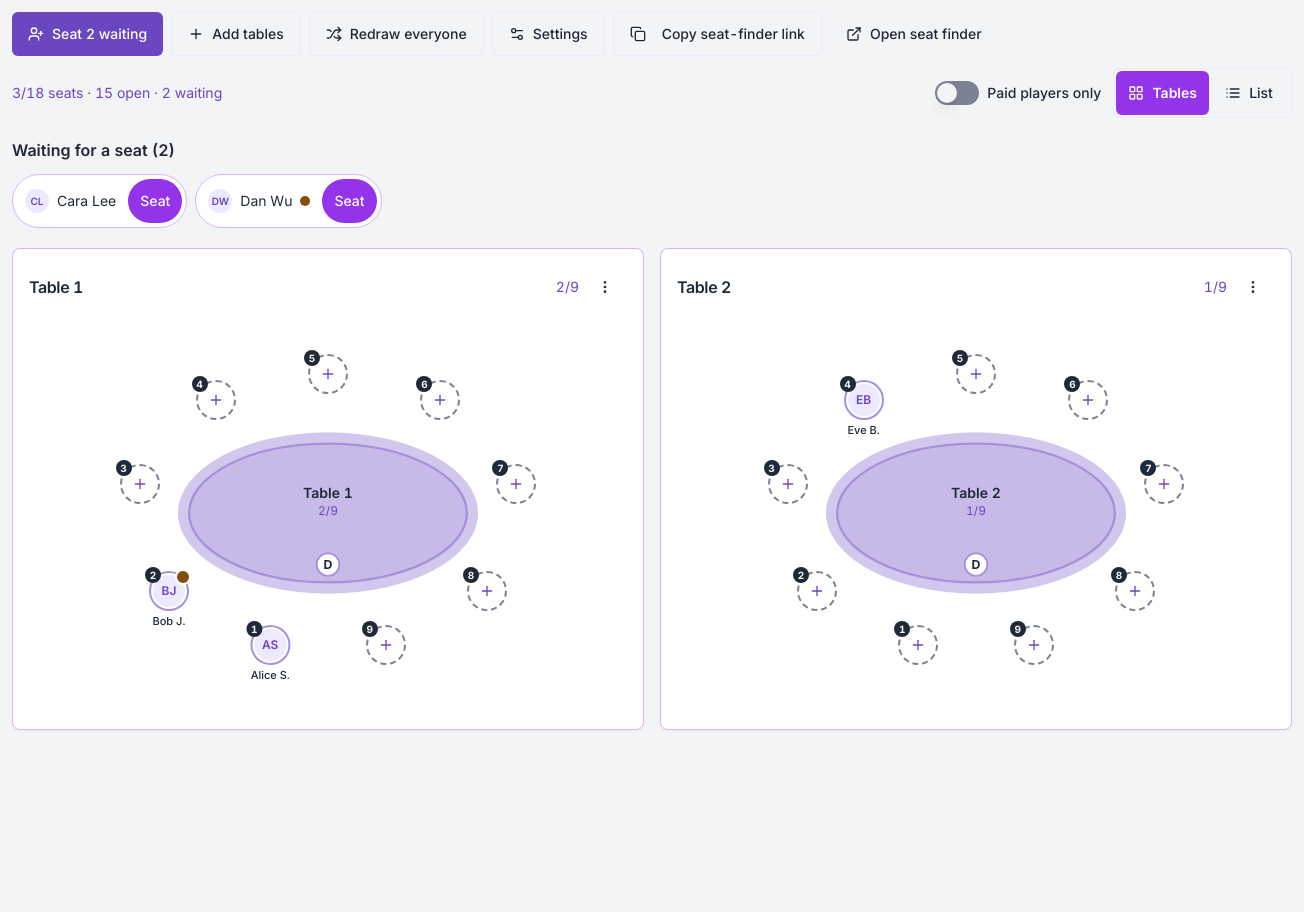
Test: SeatingPanel: drawing seats › leaves unpaid players waiting with Paid players only
This screenshot has width=1304, height=912.
Check: the button with test id "seat-waiting" reads "Seat 2 waiting", box left=12, top=12, right=163, bottom=56
Click the switch named "Paid players only". click: coordinates (957, 93)
box: left=935, top=81, right=979, bottom=105
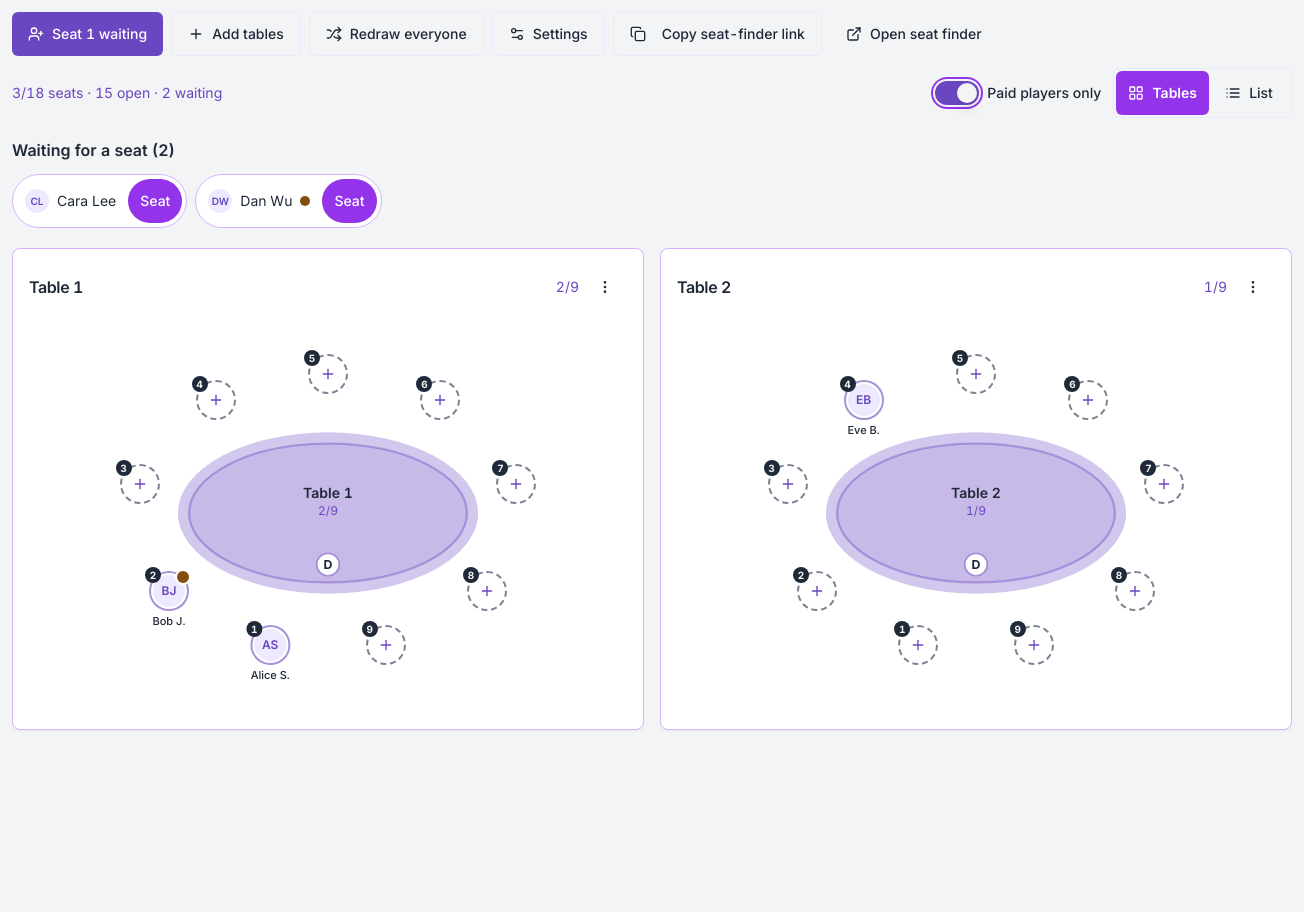
Check: the button with test id "seat-waiting" reads "Seat 1 waiting"
Click the button with test id "seat-waiting". click: coordinates (88, 34)
box: left=12, top=12, right=163, bottom=56
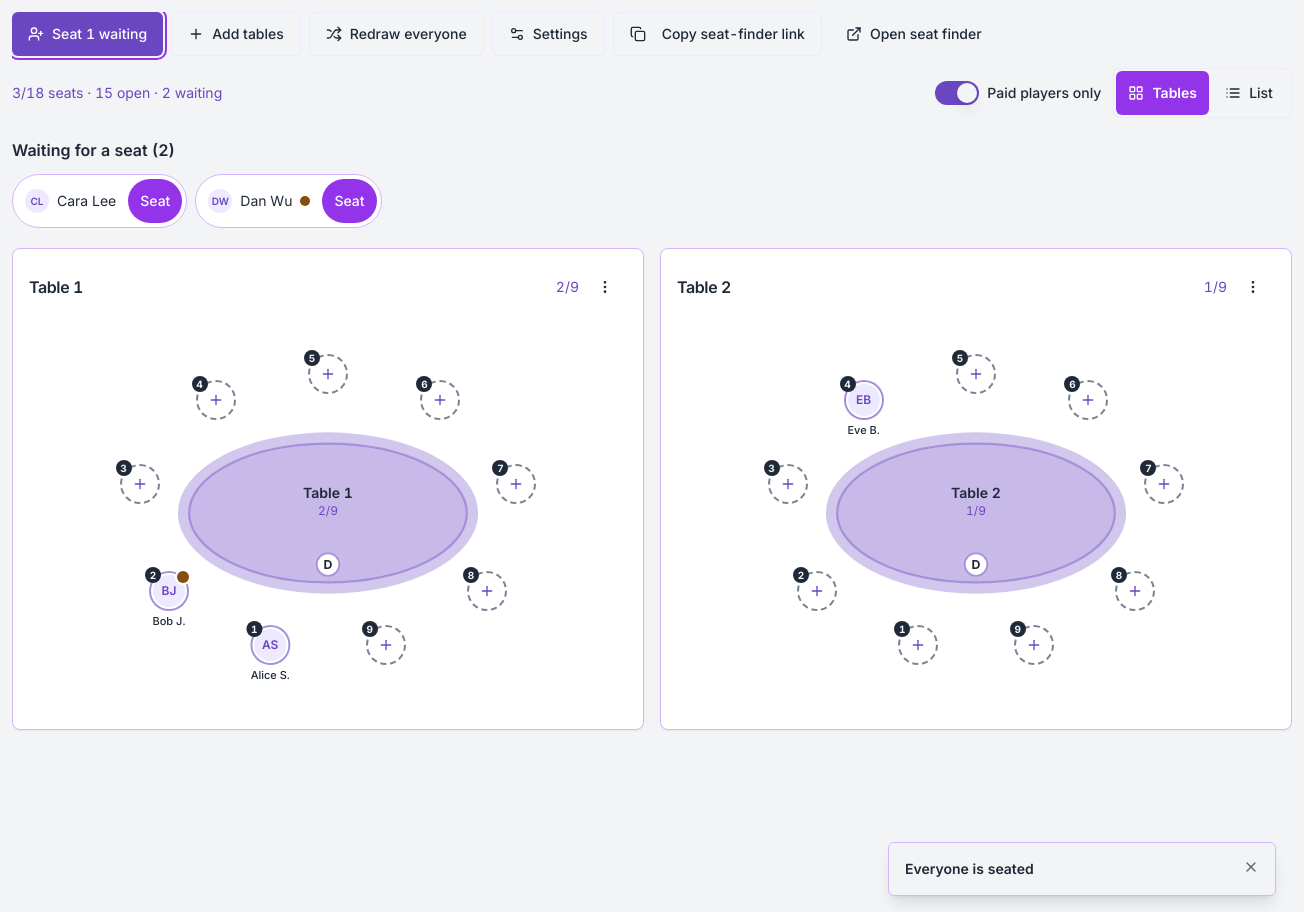
Check: the text "Everyone is seated" is shown, box left=905, top=860, right=1034, bottom=877
